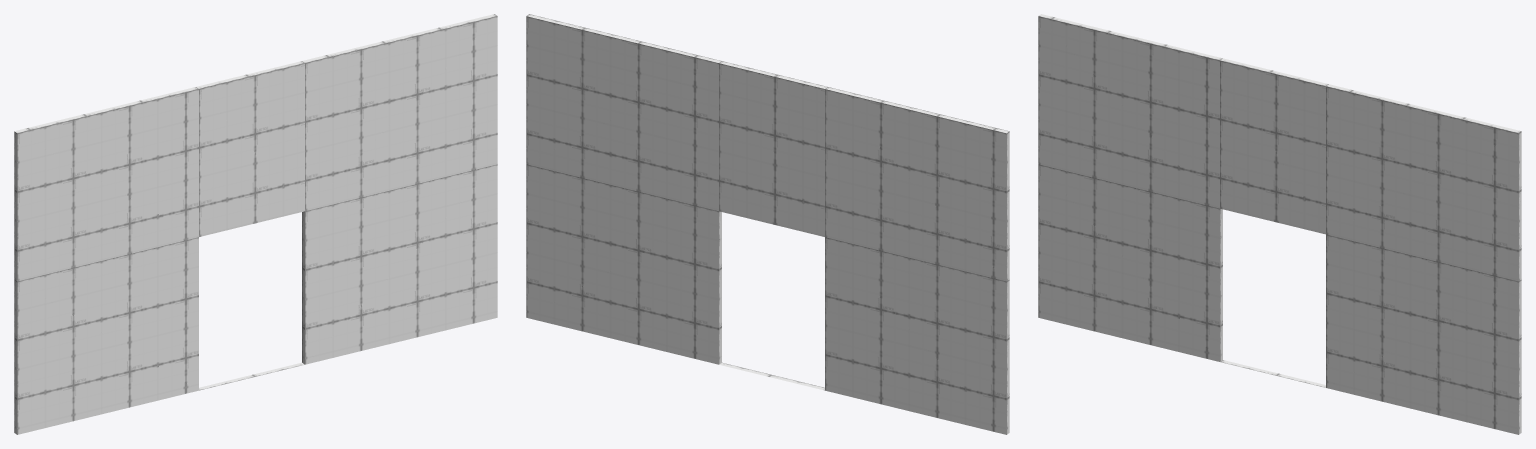
File: Wall.obj
The picture shows the model from 3 angles, left to right: view 1: azimuth 30°, elevation 25°; view 2: azimuth 150°, elevation 25°; view 3: azimuth 330°, elevation 25°; orthographic projection.
Visible parts, largest first — view 1: Wall; view 2: Wall; view 3: Wall.
Boxes of the visible parts, x1,y1,x2,y2 form: Wall: [14, 14, 497, 434]; Wall: [526, 14, 1009, 434]; Wall: [1038, 14, 1521, 434].
Size of the model in its own units: 8.54 by 5.12 by 0.0919.
1 material, 1 textured.
